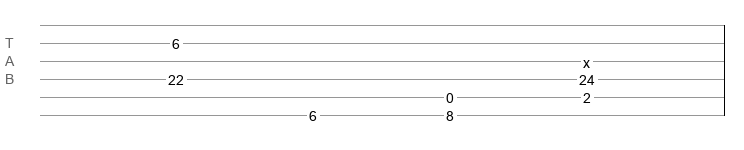0: (446, 90, 454, 100)
2: (583, 90, 591, 100)
22: (168, 72, 184, 82)
24: (579, 72, 595, 82)
6: (172, 36, 180, 46), (309, 108, 317, 118)
8: (446, 108, 454, 118)
x: (583, 55, 590, 63)
